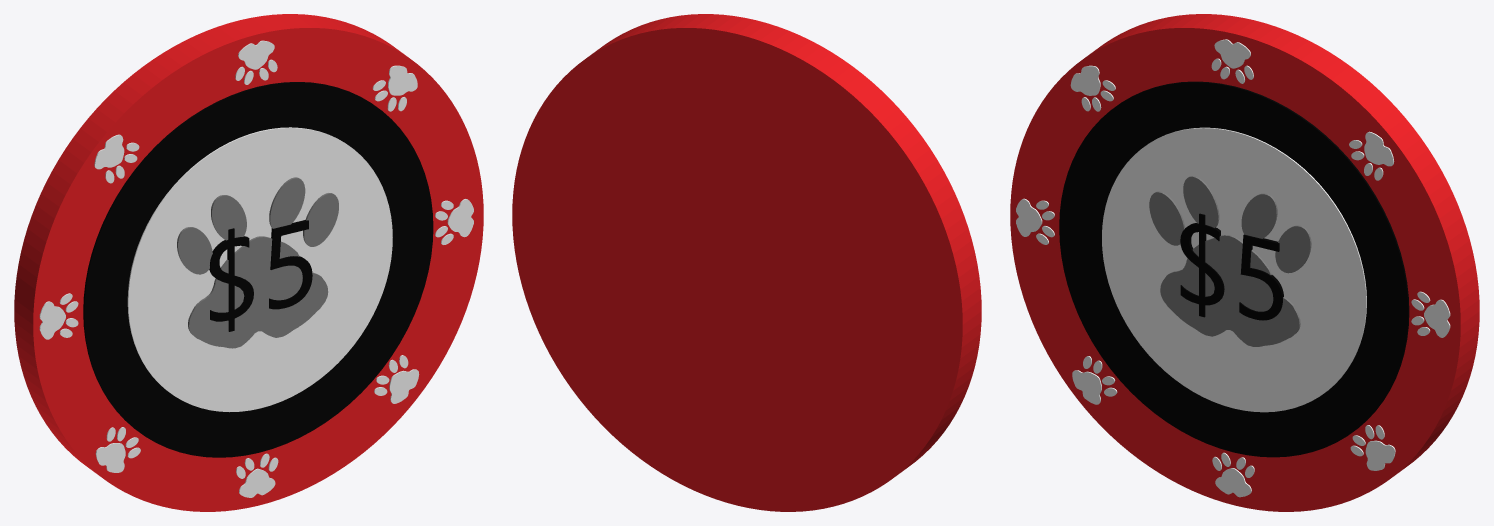
File: Red paw chip.fbx
3 renders of one model, left to right at view 1: azimuth 30°, elevation 25°; view 2: azimuth 150°, elevation 25°; view 3: azimuth 330°, elevation 25°, orthographic.
Visible parts, largest first — view 1: root (×2), node_id4, node_id258, node_id260, node_id308, node_id215, node_id220, node_id242, node_id161, node_id192, node_id226, node_id231 (+1 smaller); view 2: node_id4; view 3: root (×2), node_id4, node_id258, node_id260, node_id308, node_id226, node_id231, node_id220, node_id215, node_id192, node_id237, node_id161 (+1 smaller).
Part boxes in pixels (x1=…): root (×2): x1=83, y1=82, x2=433, y2=457; node_id4: x1=14, y1=14, x2=483, y2=511; node_id258: x1=188, y1=236, x2=328, y2=348; node_id260: x1=177, y1=177, x2=338, y2=274; node_id308: x1=209, y1=220, x2=312, y2=331; node_id215: x1=94, y1=134, x2=124, y2=169; node_id220: x1=389, y1=369, x2=419, y2=403; node_id242: x1=39, y1=301, x2=65, y2=339; node_id161: x1=239, y1=468, x2=275, y2=497; node_id192: x1=238, y1=40, x2=274, y2=69; node_id226: x1=388, y1=65, x2=417, y2=95; node_id231: x1=95, y1=443, x2=125, y2=472; node_id4: x1=512, y1=14, x2=981, y2=511; root (×2): x1=1059, y1=81, x2=1409, y2=457; node_id4: x1=1010, y1=14, x2=1479, y2=511; node_id258: x1=1160, y1=235, x2=1300, y2=346; node_id260: x1=1149, y1=176, x2=1311, y2=273; node_id308: x1=1180, y1=213, x2=1283, y2=320; node_id226: x1=1364, y1=131, x2=1394, y2=166; node_id231: x1=1072, y1=370, x2=1101, y2=404; node_id220: x1=1365, y1=440, x2=1395, y2=470; node_id215: x1=1070, y1=65, x2=1100, y2=95; node_id192: x1=1214, y1=39, x2=1250, y2=68; node_id237: x1=1424, y1=299, x2=1450, y2=337; node_id161: x1=1215, y1=468, x2=1251, y2=497.
Bounding box in the file's own units: 0.5155 × 0.5155 × 0.0448.
Materials: 8 (5 with a texture image).
